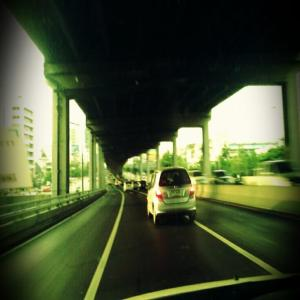Vehicle-registration-plate: (171, 191, 182, 198)
